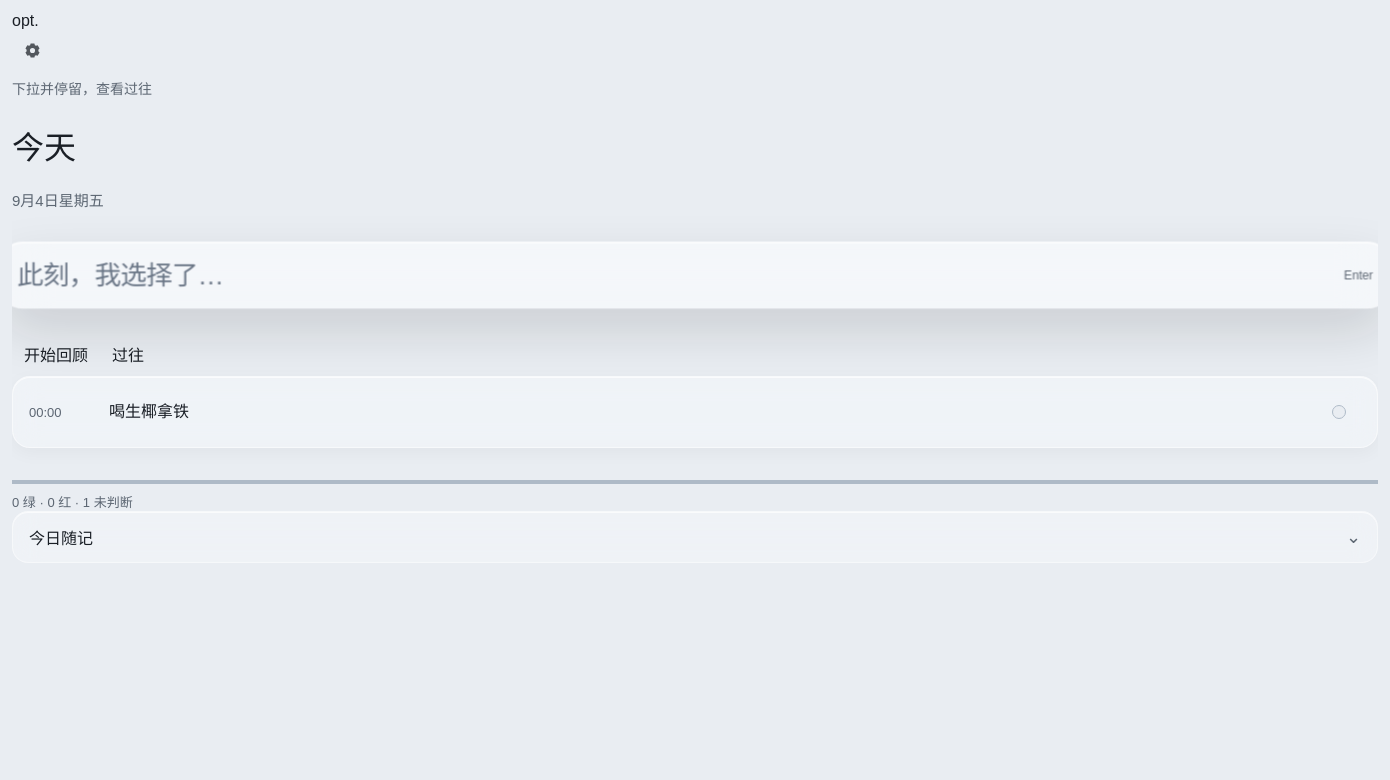
Test: TodayPage › edits from the context menu and deletes without an undo action
The image size is (1390, 780).
Right-click the text "喝生椰拿铁" at (149, 412), box [109,403,189,420]
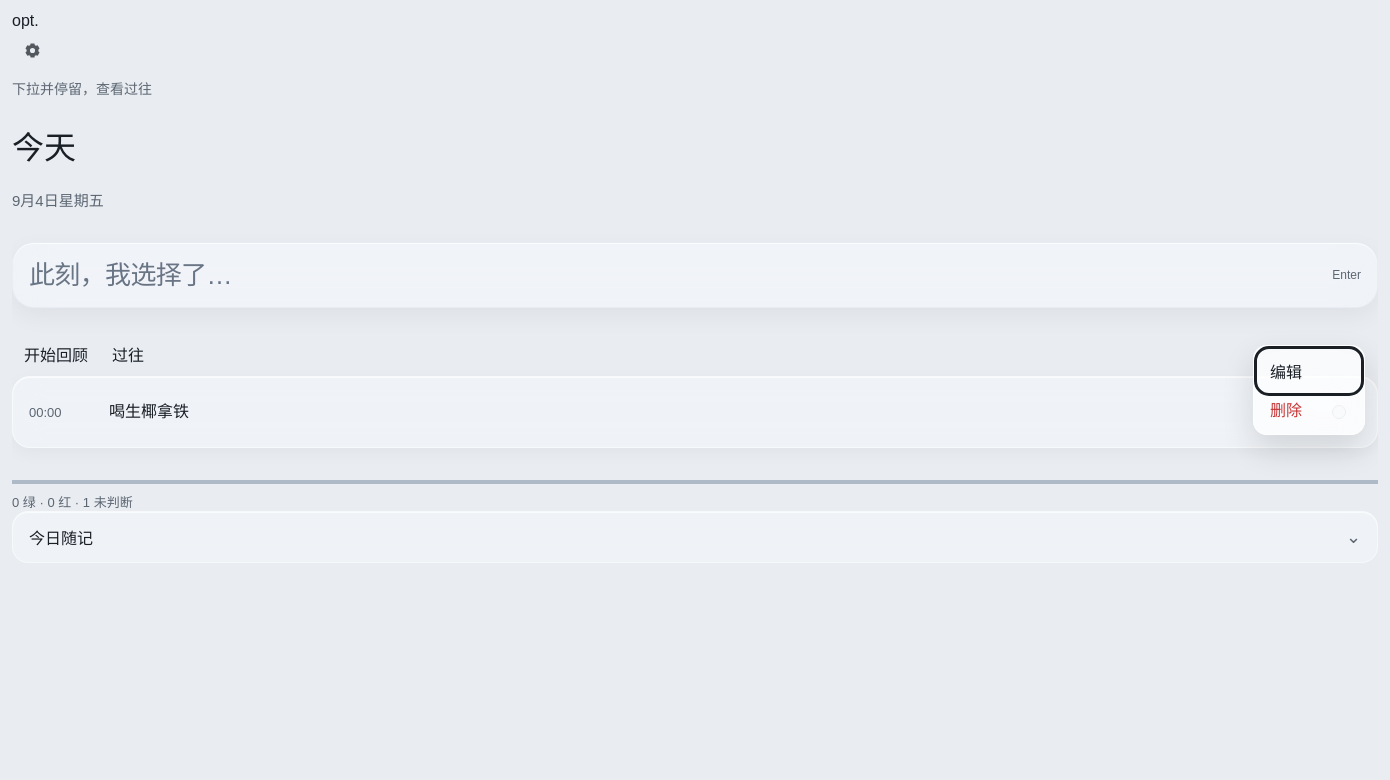
Click the menu item "编辑". click: (1309, 371)
box: [1260,352,1358,390]
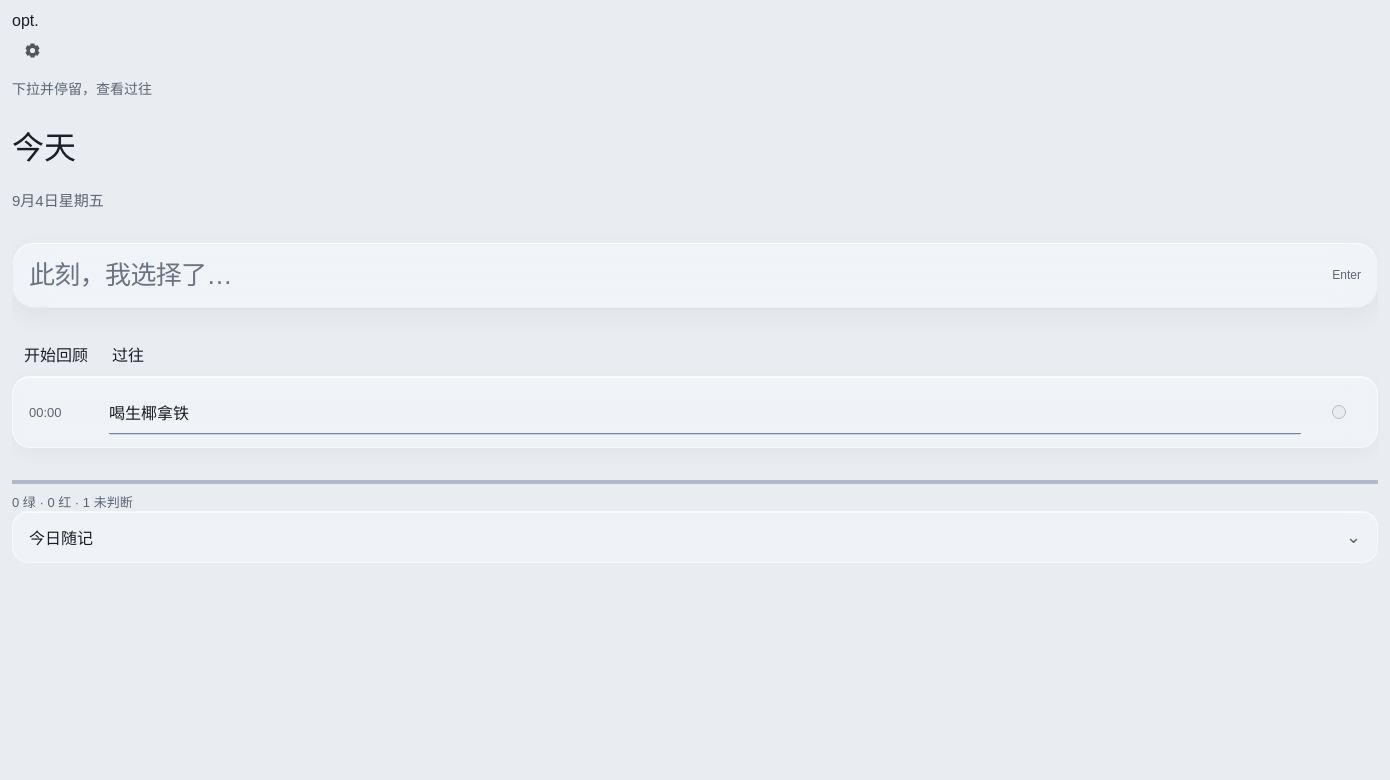
Replace the text in the field named "编辑选择" with "喝黑咖啡". click: (705, 412)
box: [109,390,1301,434]
Then press Enter
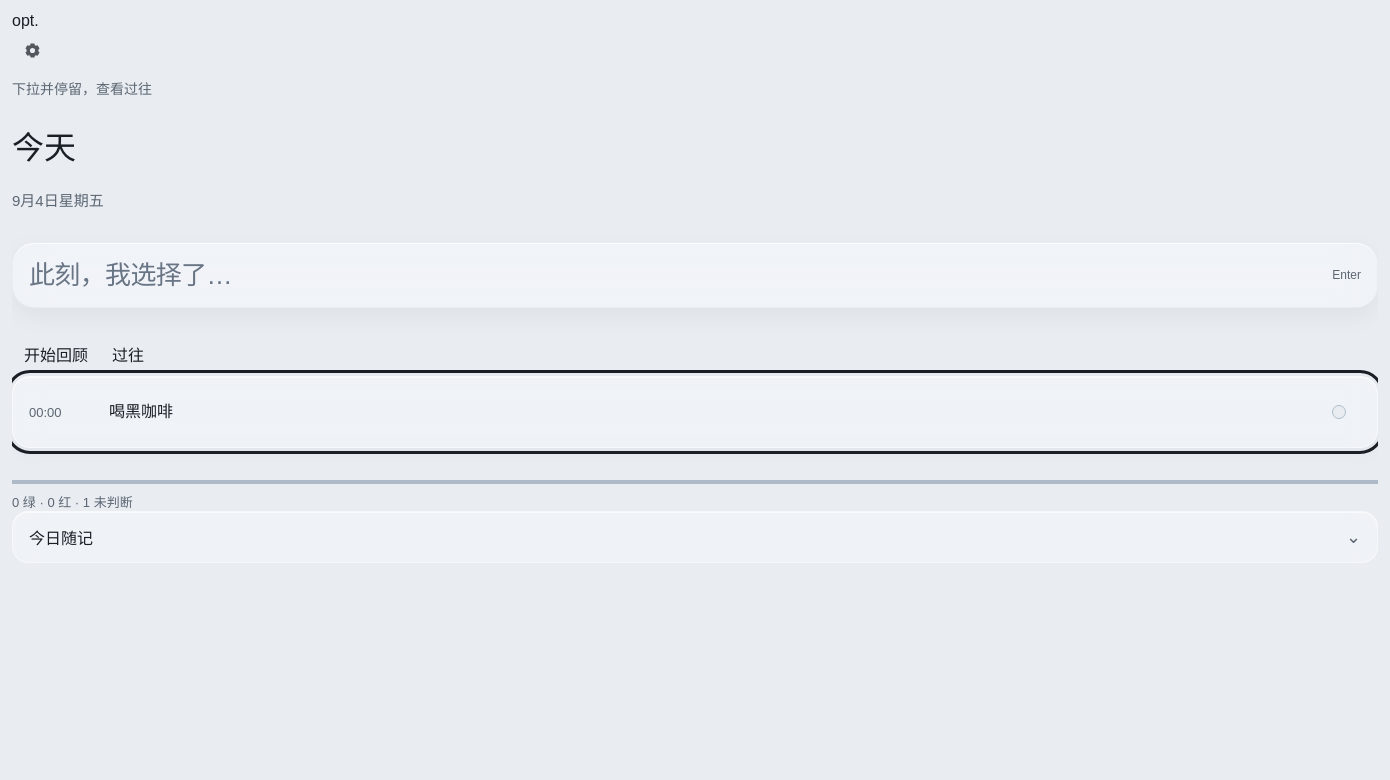
Now the text "喝黑咖啡" is shown
Right-click the text "喝黑咖啡" at (141, 412), box [109,403,173,420]
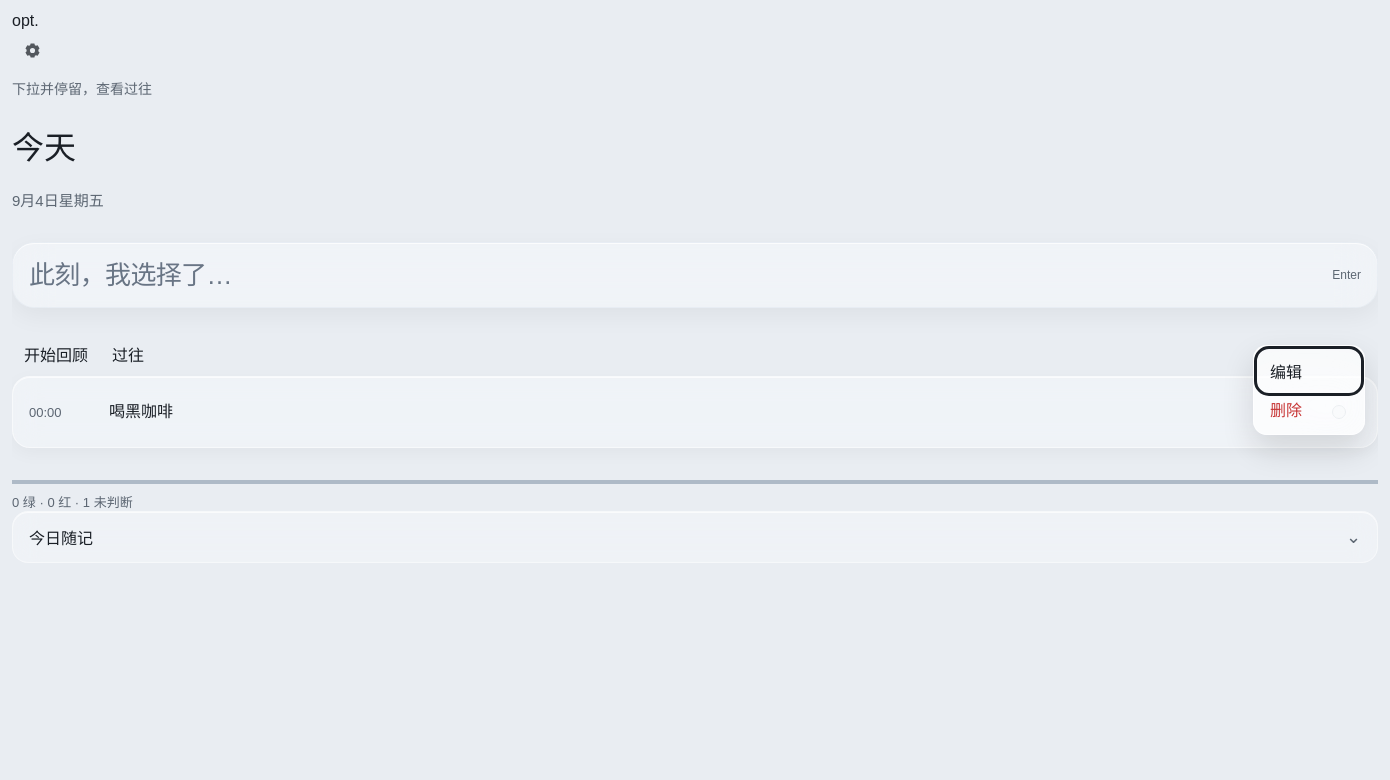
Click the menu item "删除". click: (1309, 409)
box: [1260,390,1358,428]
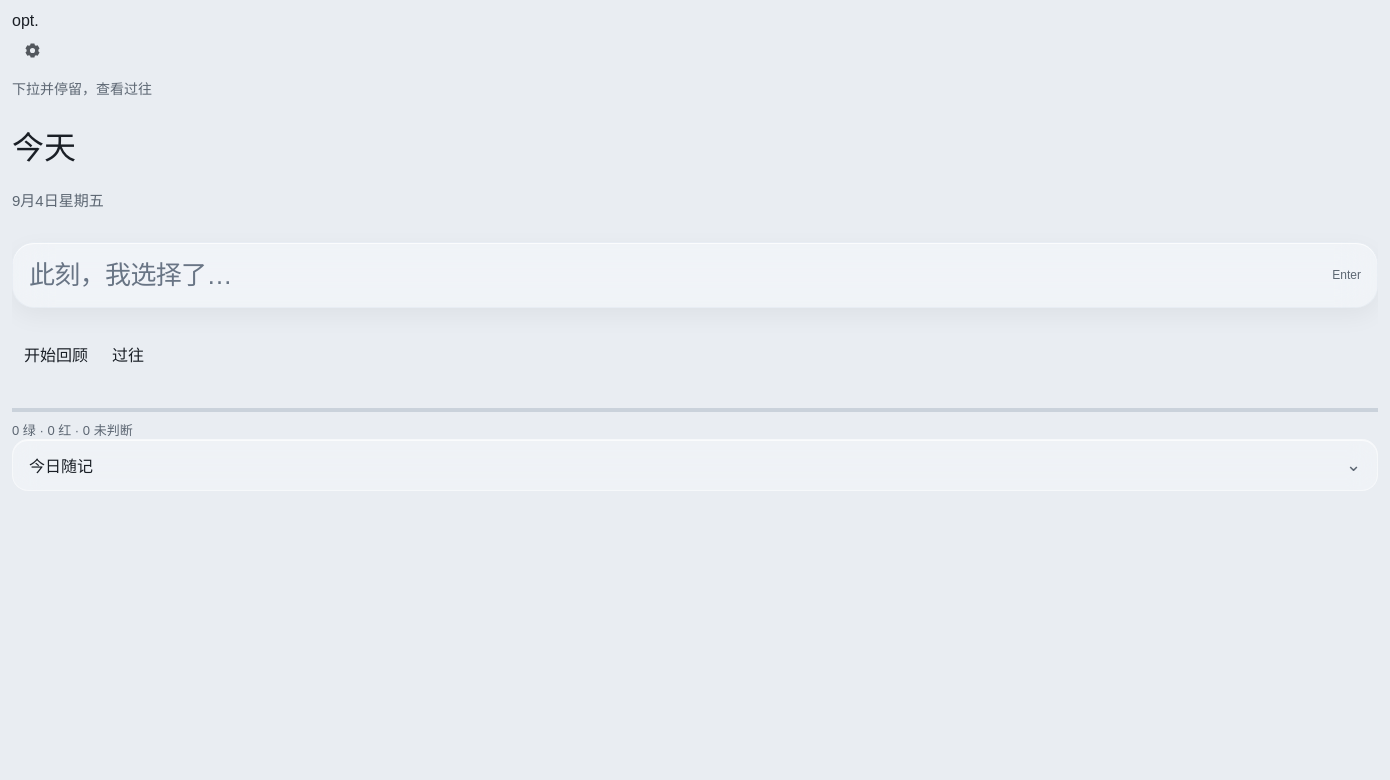
Now the text "喝黑咖啡" is gone
